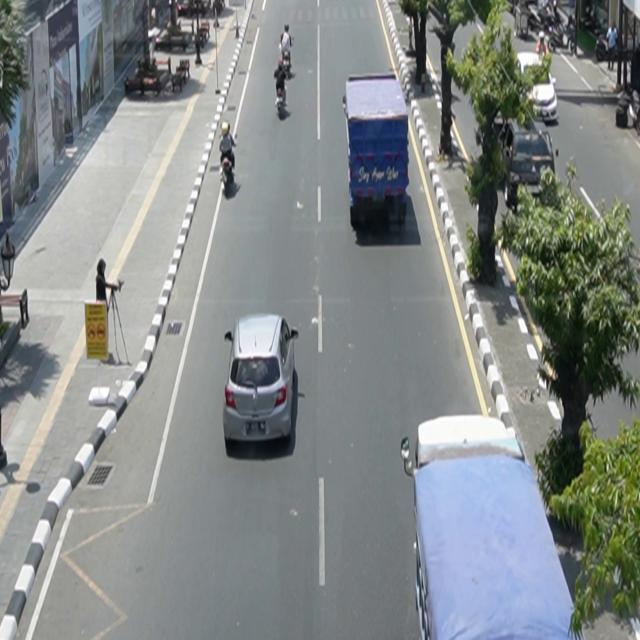bus: (343, 73, 410, 231)
car: (223, 313, 300, 447)
